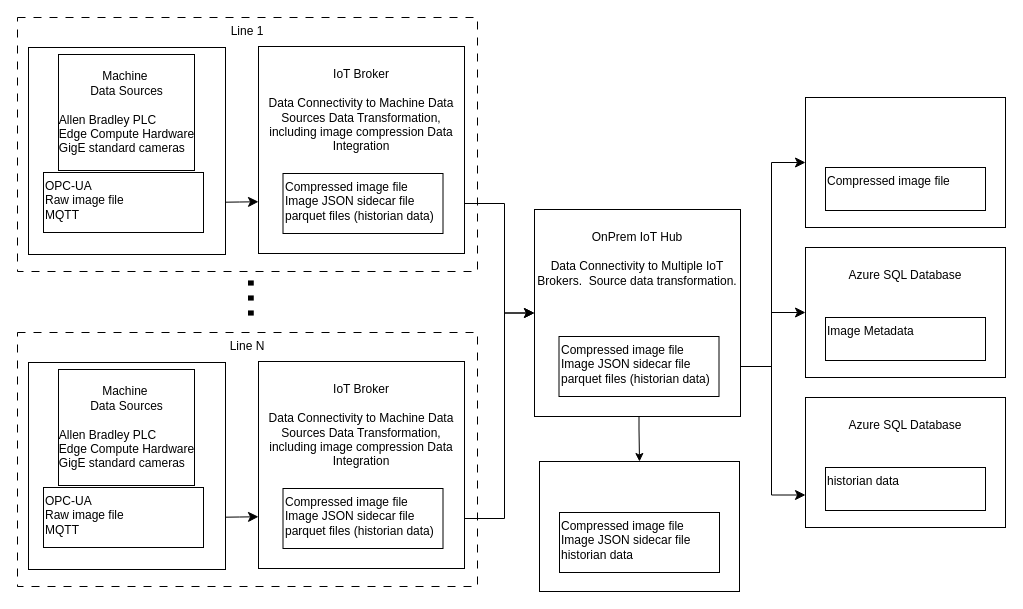
This 1023x609 diagram has some shape labels left out. Here are the shapes that lost their labels. From the top down, the box of each, then its label:
(804, 96, 1006, 228): Azure Blob Storage (ADLS Gen2)
(538, 460, 740, 592): OnPrem Data Center
